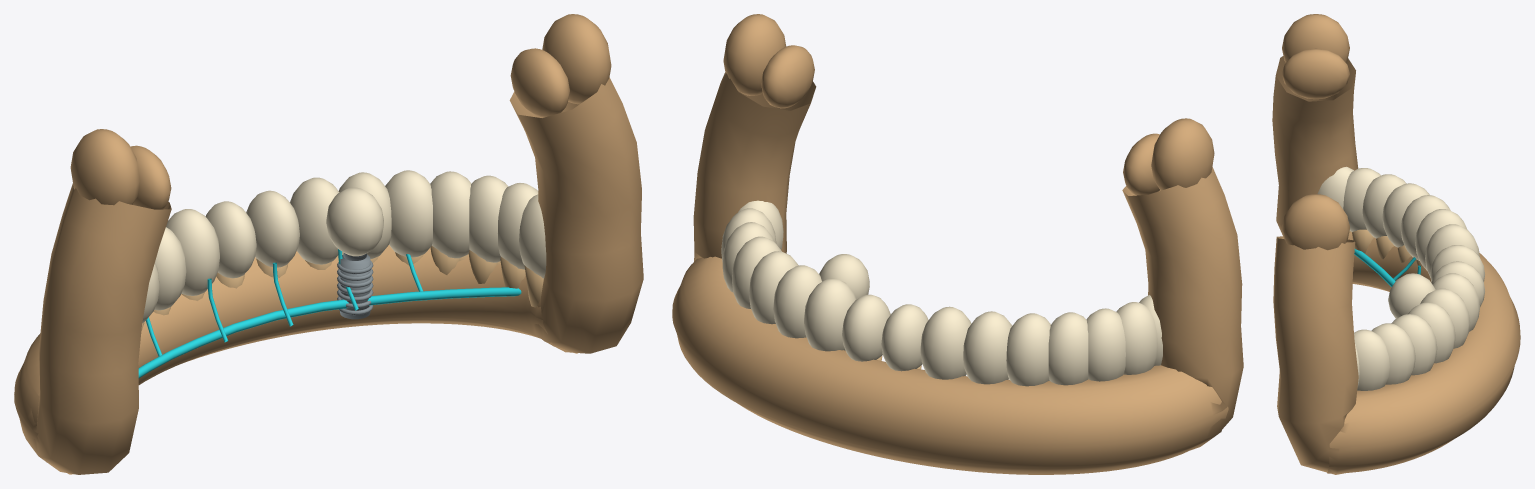
The model's file is jaw.glb.
3 views of the same model, side by side, from view 1: azimuth 30°, elevation 25°; view 2: azimuth 150°, elevation 25°; view 3: azimuth 270°, elevation 25° (orthographic). The views are drawn at different scales.
Visible parts, largest first — view 1: Mandible_Body, Mandible_Body_Right, Mandible_Process, Mandible_Process.002, Inferior_Alveolar_Nerve, Tooth_12_Crown, Implant_Crown, Mandible_Process.003, Tooth_13_Crown, Tooth_09_Crown, Tooth_07_Crown, Tooth_10_Crown (+8 smaller); view 2: Mandible_Body_Right, Mandible_Body, Mandible_Process, Mandible_Process.002, Tooth_07_Crown, Tooth_06_Crown, Tooth_05_Crown, Tooth_10_Crown, Tooth_04_Crown, Mandible_Process.003, Tooth_03_Crown, Tooth_09_Crown (+10 smaller); view 3: Mandible_Body, Mandible_Body_Right, Mandible_Process.002, Mandible_Process.001, Mandible_Process, Tooth_15_Crown, Tooth_14_Crown, Tooth_13_Crown, Tooth_03_Crown, Tooth_04_Crown, Tooth_12_Crown, Implant_Crown (+12 smaller).
Part boxes in pixels (x1,y1,x2,y2): Mandible_Body: [14, 77, 643, 474]; Mandible_Body_Right: [14, 183, 577, 474]; Mandible_Process: [70, 129, 140, 205]; Mandible_Process.002: [542, 14, 611, 104]; Inferior_Alveolar_Nerve: [138, 287, 521, 378]; Tooth_12_Crown: [385, 170, 432, 257]; Implant_Crown: [326, 187, 383, 256]; Mandible_Process.003: [510, 48, 569, 117]; Tooth_13_Crown: [430, 171, 471, 258]; Tooth_09_Crown: [246, 190, 299, 267]; Tooth_07_Crown: [166, 209, 219, 295]; Tooth_10_Crown: [290, 177, 339, 264]; Mandible_Body_Right: [672, 167, 1243, 474]; Mandible_Body: [672, 72, 1228, 471]; Mandible_Process: [1151, 118, 1214, 190]; Mandible_Process.002: [723, 14, 786, 95]; Tooth_07_Crown: [920, 306, 971, 379]; Tooth_06_Crown: [963, 311, 1012, 384]; Tooth_05_Crown: [1006, 313, 1050, 386]; Tooth_10_Crown: [804, 278, 856, 351]; Tooth_04_Crown: [1048, 312, 1088, 385]; Mandible_Process.003: [761, 45, 814, 108]; Tooth_03_Crown: [1086, 308, 1125, 381]; Tooth_09_Crown: [842, 294, 890, 361]; Mandible_Body: [1273, 231, 1520, 474]; Mandible_Body_Right: [1272, 56, 1520, 473]; Mandible_Process.002: [1282, 194, 1349, 250]; Mandible_Process.001: [1282, 48, 1349, 99]; Mandible_Process: [1282, 14, 1349, 62]; Tooth_15_Crown: [1354, 329, 1389, 390]; Tooth_14_Crown: [1371, 323, 1415, 384]; Tooth_13_Crown: [1391, 314, 1437, 375]; Tooth_03_Crown: [1362, 174, 1406, 238]; Tooth_04_Crown: [1382, 183, 1429, 247]; Tooth_12_Crown: [1408, 302, 1455, 363]; Implant_Crown: [1388, 273, 1435, 318].
Size of the model in its own units: 8.16 by 4.54 by 3.78.
